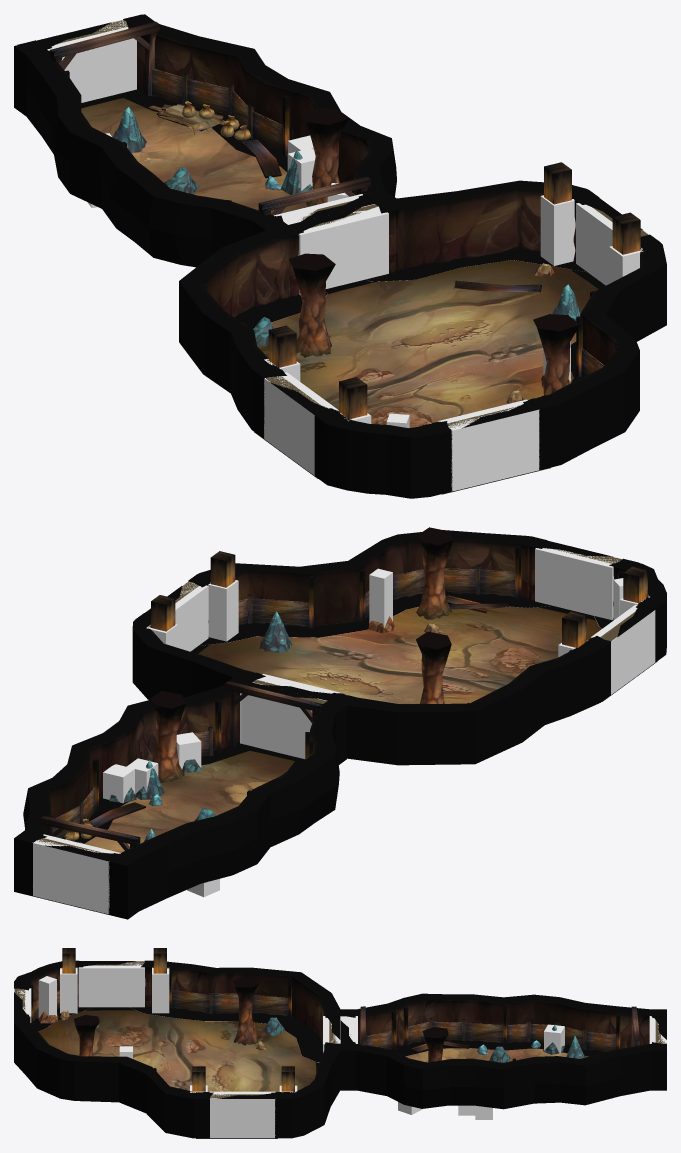
The picture shows the model from 3 angles, top to bottom: view 1: azimuth 30°, elevation 25°; view 2: azimuth 150°, elevation 25°; view 3: azimuth 270°, elevation 25°; orthographic projection. The views are drawn at different scales.
Parts seen in each view (by area): view 1: Dun_011_Room_003_wall, Dun_011_Room_003_ground, Dan1, DoorWay_NavMask (1) (×5), Dun_032_Object_005x (×2), Dan2, Dungeon_011_Object_010 (×3), Dun_011_Door_002_old (×6), Dun_011_Room_003_shadow, Cube (3), Dan1_shadow, Dun_011_Door_002 (+3 smaller); view 2: Dun_011_Room_003_wall, Dan1, Dun_011_Room_003_ground, DoorWay_NavMask (1) (×5), Dun_032_Object_005x (×2), Dan2, Dungeon_011_Object_010 (×3), Dun_011_Room_003_shadow, Dun_011_Door_002_old (×4), Cube (×2), Cube (1), Dan1_shadow (+3 smaller); view 3: Dan1, Dun_011_Room_003_wall, Dun_011_Room_003_ground, Dun_032_Object_005x (×2), DoorWay_NavMask (1) (×2), Dungeon_011_Object_010 (×3), Dun_011_Door_002_old (×6), Dun_011_Room_003_shadow, Cube (4) (×2), Dan2, Dan1_shadow, Cube (5) (+3 smaller).
Part boxes in pixels (x1,y1,x2,y2): Dun_011_Room_003_wall: (179,180,666,498); Dun_011_Room_003_ground: (254,260,598,494); Dan1: (14,14,396,267); DoorWay_NavMask (1) (×5): (47,19,648,491); Dun_032_Object_005x (×2): (49,21,640,425); Dan2: (81,98,308,213); Dungeon_011_Object_010 (×3): (289,108,579,395); Dun_011_Door_002_old (×6): (18,14,660,434); Dun_011_Room_003_shadow: (235,247,587,382); Cube (3): (540,195,575,265); Dan1_shadow: (116,89,287,172); Dun_011_Door_002: (269,204,404,296); Dun_011_Room_003_wall: (132,530,666,765); Dan1: (14,678,346,919); Dun_011_Room_003_ground: (198,606,657,703); DoorWay_NavMask (1) (×5): (32,548,655,914); Dun_032_Object_005x (×2): (40,546,647,850); Dan2: (84,750,294,852); Dungeon_011_Object_010 (×3): (150,527,453,783); Dun_011_Room_003_shadow: (198,591,613,645); Dun_011_Door_002_old (×4): (17,536,664,912); Cube (×2): (103,568,392,803); Cube (1): (208,580,238,641); Dan1_shadow: (61,742,304,843); Dan1: (340,993,666,1109); Dun_011_Room_003_wall: (14,961,340,1138); Dun_011_Room_003_ground: (38,1010,316,1138); Dun_032_Object_005x (×2): (30,948,639,1091); DoorWay_NavMask (1) (×2): (78,961,275,1138); Dungeon_011_Object_010 (×3): (74,976,448,1062); Dun_011_Door_002_old (×6): (14,960,666,1137); Dun_011_Room_003_shadow: (33,1006,322,1084); Cube (4) (×2): (152,967,564,1053); Dan2: (405,1048,588,1062); Dan1_shadow: (394,1040,605,1056); Cube (5): (60,967,77,1013).
Size of what is drawn, in the model's own units: 15 by 4 by 30.
